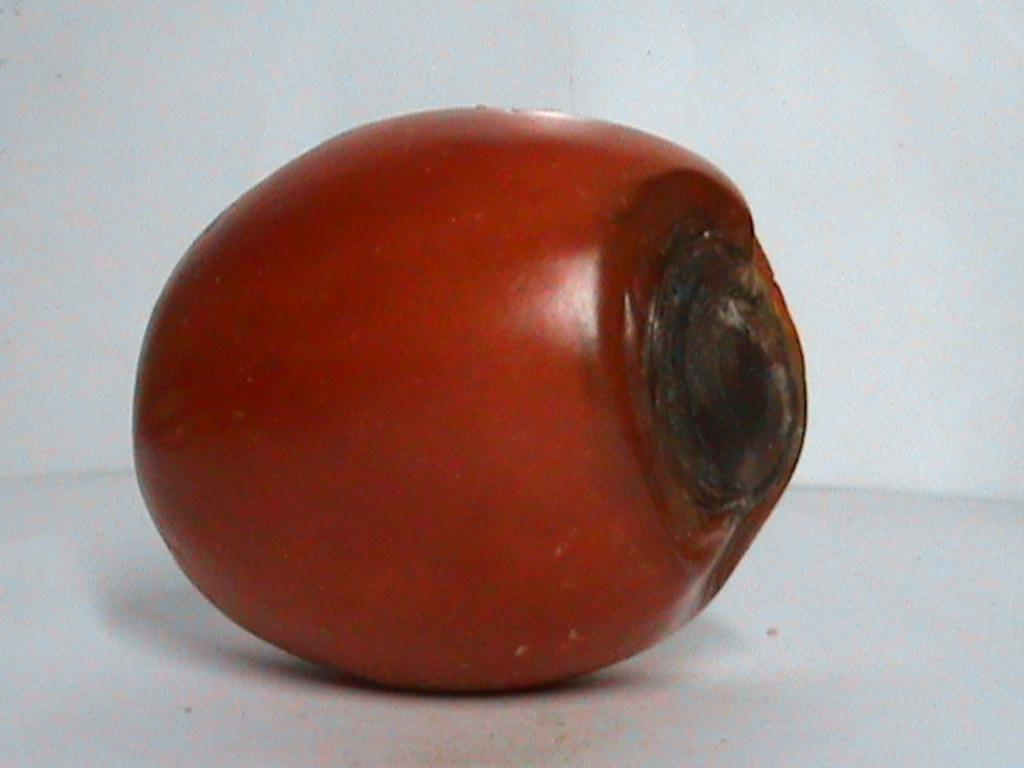rot_mold_decay: (646, 227, 802, 515)
tomato: (134, 110, 805, 688)
